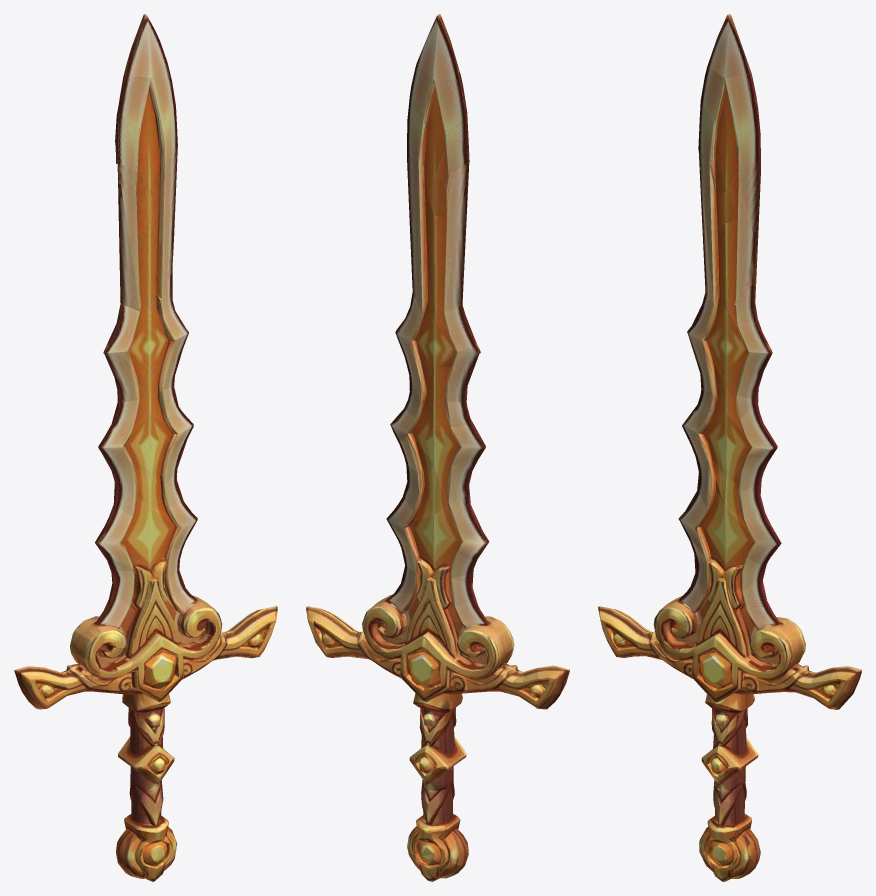
File: w_guardian_orange.glb
3 views of the same model, side by side, from view 1: azimuth 30°, elevation 25°; view 2: azimuth 150°, elevation 25°; view 3: azimuth 330°, elevation 25° (orthographic).
Size of the model in its own units: 0.367 by 1.15 by 0.0806.
1 material, 1 textured.
